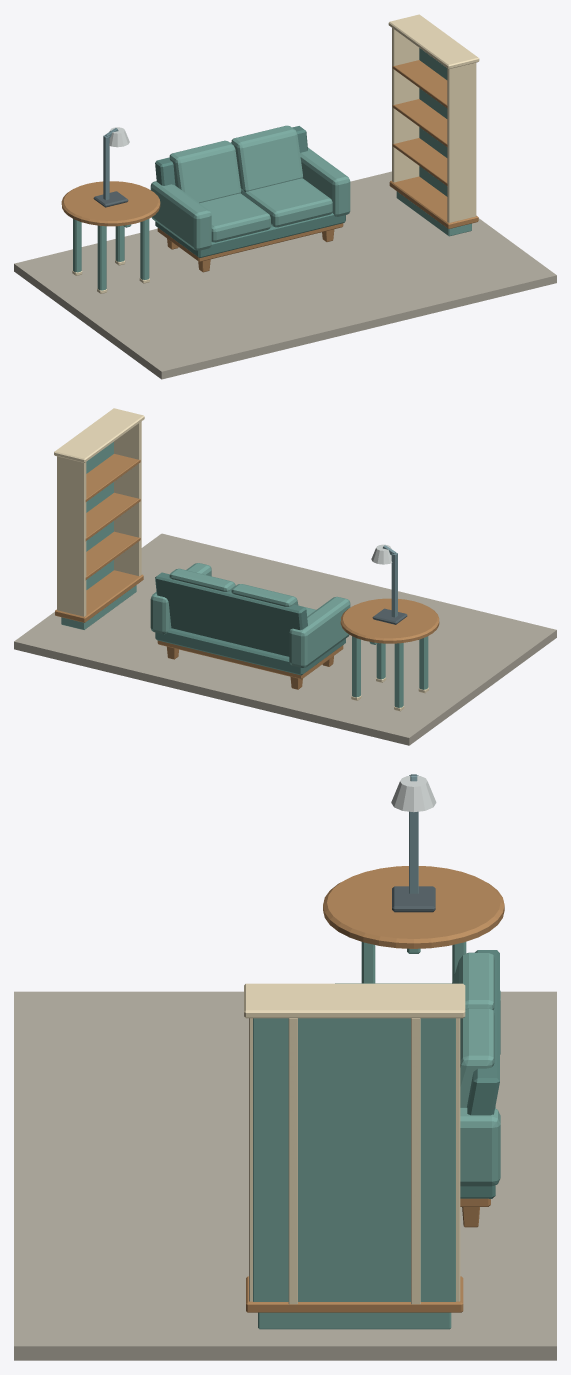
3 renders of one model, top to bottom at view 1: azimuth 30°, elevation 25°; view 2: azimuth 150°, elevation 25°; view 3: azimuth 270°, elevation 25°, orthographic. The views are drawn at different scales.
Visible parts, largest first — view 1: SCENE_ONLY__SupportFloor, table__kitchen-round-table-01, bookcase__Side_wall_R, sofa__Back_cushion_R, sofa__Back_cushion_L, bookcase__Side_wall_L, sofa__Seat_cushion_R, sofa__Low_armrest_L, sofa__Seat_cushion_L, bookcase__Crown_cap, sofa__Upholstered_seat_deck, sofa__Low_armrest_R (+9 smaller); view 2: SCENE_ONLY__SupportFloor, sofa__Rear_support_shell, table__kitchen-round-table-01, bookcase__Side_wall_L, bookcase__Side_wall_R, sofa__Low_armrest_L, sofa__Upholstered_seat_deck, bookcase__Crown_cap, bookcase__Lower_book_deck, bookcase__Inset_backboard, bookcase__Fixed_book_shelf_02, bookcase__Fixed_book_shelf_03 (+7 smaller); view 3: SCENE_ONLY__SupportFloor, bookcase__Inset_backboard, table__kitchen-round-table-01, bookcase__Crown_cap, bookcase__Floor_plinth, sofa__Low_armrest_R, bookcase__Rear_batten_L, bookcase__Rear_batten_R, bookcase__Lower_book_deck, sofa__Back_cushion_R, sofa__Rear_support_shell, sofa__Back_cushion_L (+5 smaller).
Boxes of the visible parts, x1,y1,x2,y2 form: SCENE_ONLY__SupportFloor: (14, 171, 556, 379); table__kitchen-round-table-01: (61, 181, 160, 293); bookcase__Side_wall_R: (447, 62, 476, 222); sofa__Back_cushion_R: (231, 125, 302, 192); sofa__Back_cushion_L: (169, 140, 241, 203); bookcase__Side_wall_L: (392, 28, 419, 182); sofa__Seat_cushion_R: (241, 178, 332, 227); sofa__Low_armrest_L: (150, 181, 211, 250); sofa__Seat_cushion_L: (200, 193, 270, 242); bookcase__Crown_cap: (388, 14, 479, 68); sofa__Upholstered_seat_deck: (155, 213, 345, 257); sofa__Low_armrest_R: (300, 147, 350, 216); SCENE_ONLY__SupportFloor: (14, 533, 556, 745); sofa__Rear_support_shell: (155, 572, 307, 656); table__kitchen-round-table-01: (340, 598, 439, 711); bookcase__Side_wall_L: (57, 456, 86, 616); bookcase__Side_wall_R: (114, 421, 141, 576); sofa__Low_armrest_L: (289, 596, 350, 667); sofa__Upholstered_seat_deck: (155, 628, 345, 675); bookcase__Crown_cap: (54, 408, 144, 462); bookcase__Lower_book_deck: (55, 570, 143, 622); bookcase__Inset_backboard: (86, 442, 113, 589); bookcase__Fixed_book_shelf_02: (85, 492, 140, 540); bookcase__Fixed_book_shelf_03: (85, 454, 140, 501); SCENE_ONLY__SupportFloor: (14, 991, 556, 1360); bookcase__Inset_backboard: (253, 1018, 455, 1301); table__kitchen-round-table-01: (323, 866, 504, 983); bookcase__Crown_cap: (244, 983, 465, 1018); bookcase__Floor_plinth: (258, 1312, 451, 1329); sofa__Low_armrest_R: (460, 1107, 500, 1186); bookcase__Rear_batten_L: (411, 1018, 420, 1304); bookcase__Rear_batten_R: (288, 1018, 297, 1304); bookcase__Lower_book_deck: (246, 1276, 463, 1312); sofa__Back_cushion_R: (460, 1008, 494, 1107); sofa__Rear_support_shell: (467, 950, 499, 1115); sofa__Back_cushion_L: (452, 952, 494, 1009).
Size of the model in its own units: 4.25 by 1.88 by 2.75.
